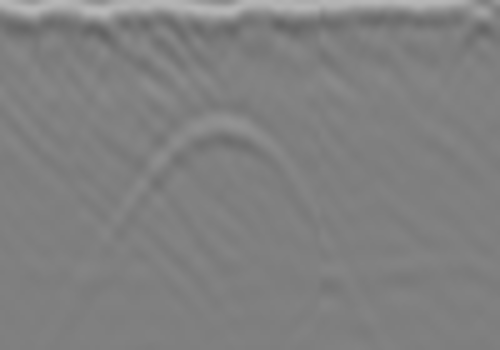hyperbola: (71, 116, 376, 349)
